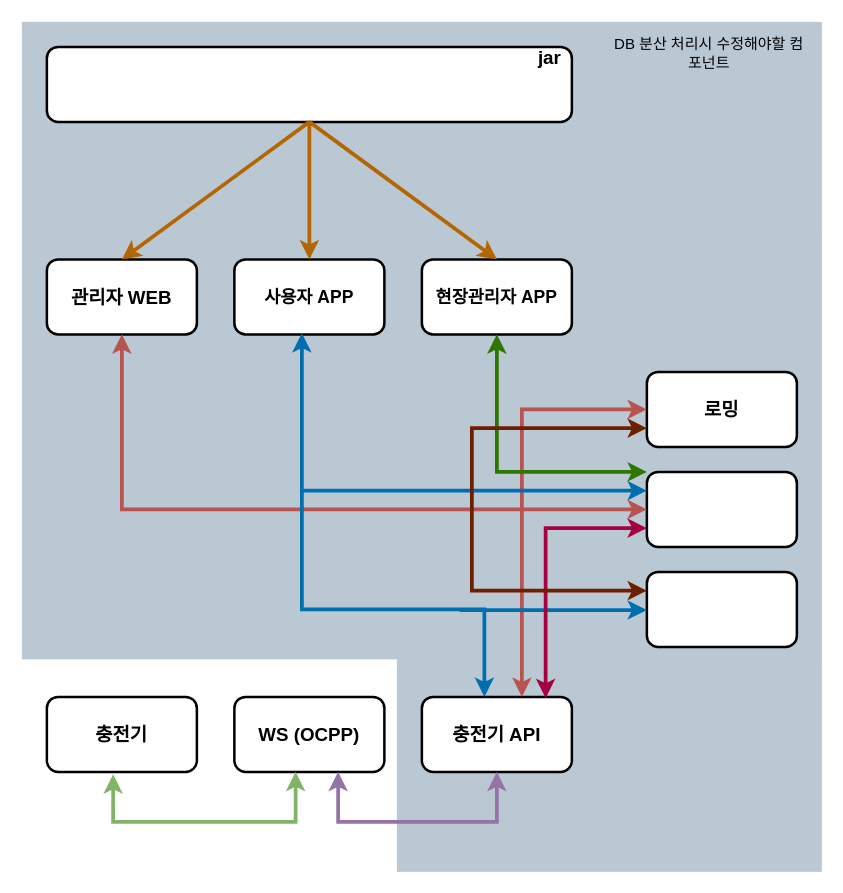
This 843x893 diagram has some shape labels left out. Here are the shapes that lost their labels. From the top down, the box of each, then its label:
(45, 45, 572, 122): 공통 모듈 (결제,본인인증, 알림, 예외처리, 파일, 토큰 등)
(645, 470, 798, 548): 푸시
(645, 570, 798, 648): 배치
